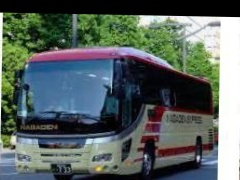bus: (15, 42, 213, 180)
